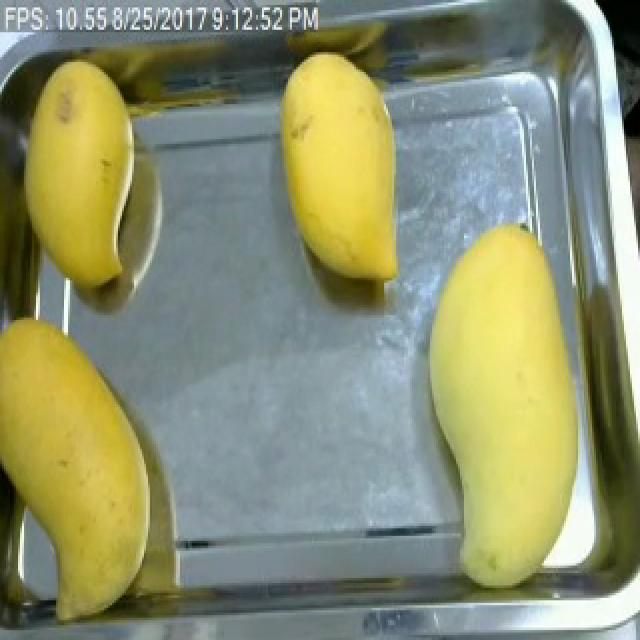fruit: (414, 208, 586, 536), (0, 305, 166, 630), (264, 40, 448, 302), (10, 50, 152, 302)
